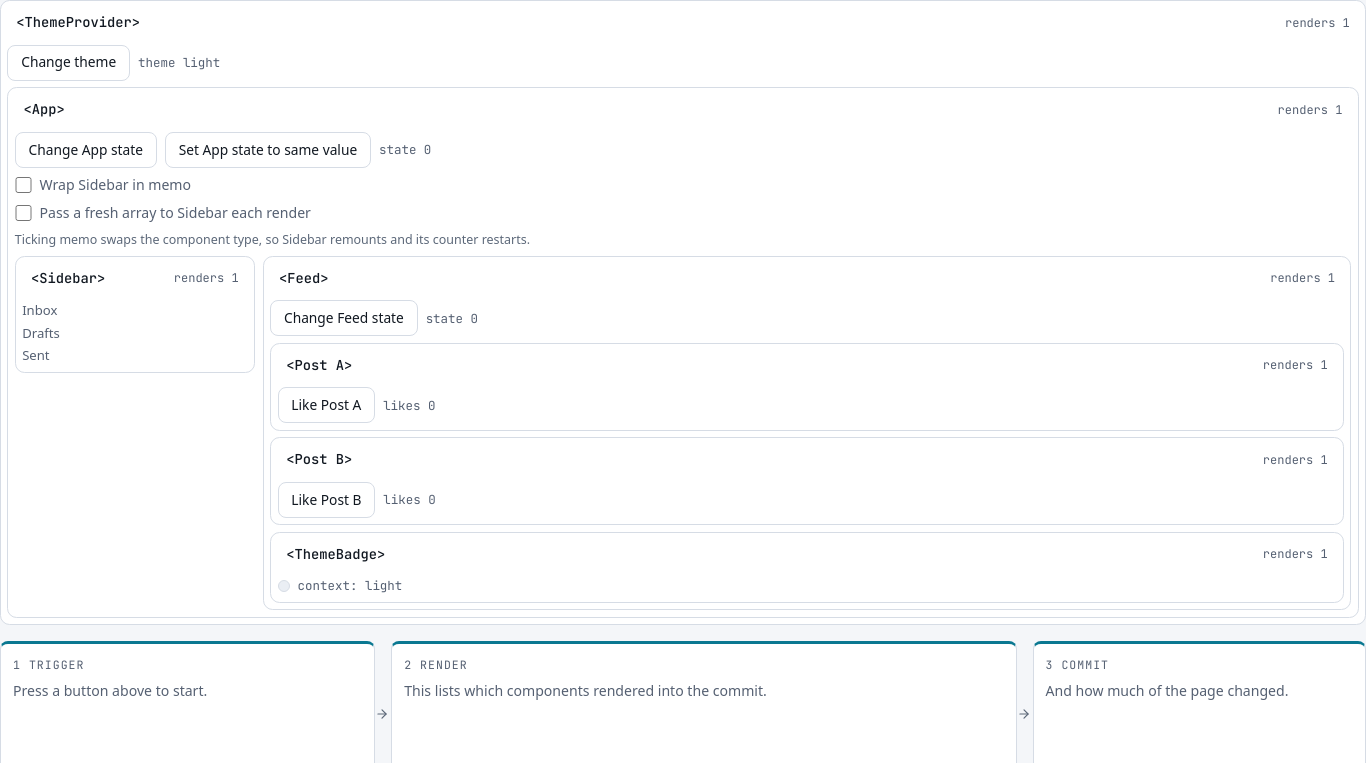
Test: render-tree lab › skips a memoised sidebar when its props are equal
The image size is (1366, 763).
Later steps or results of the test are not shown.
Click the checkbox labelled "Wrap Sidebar in memo".
click(23, 185)  # box [15,177,32,194]
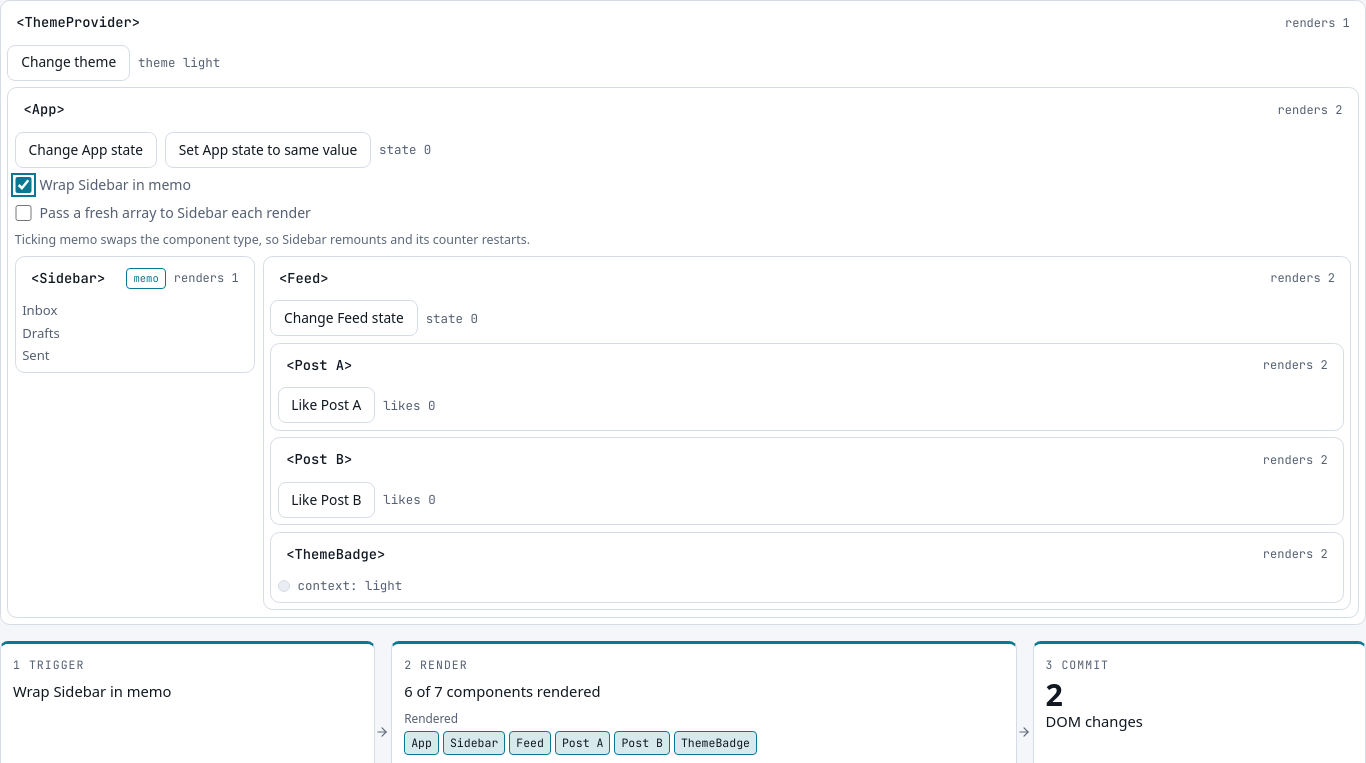
Result: the text "memo" is shown at [126,268,166,289]
